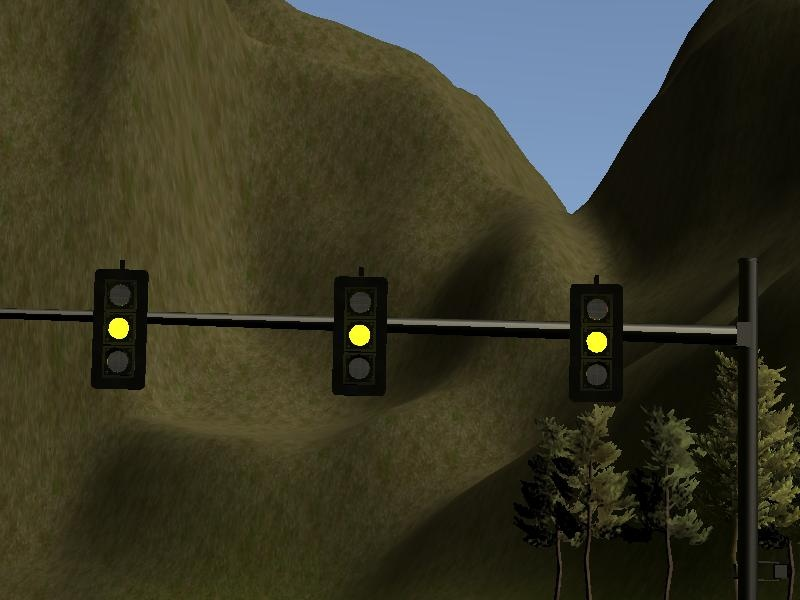YELLOW: (329, 274, 392, 399), (563, 278, 626, 403), (87, 266, 150, 391)
